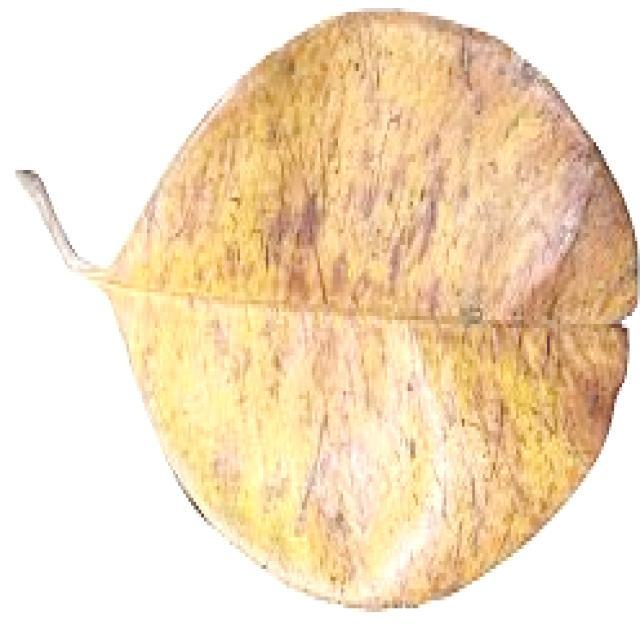leaf: (16, 8, 637, 611)
